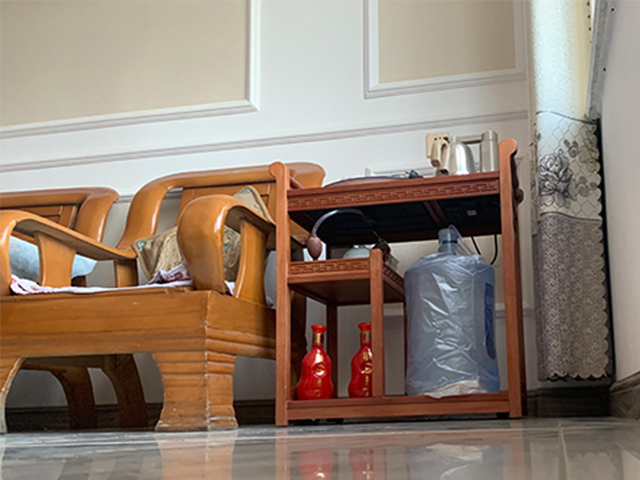curtain: (526, 1, 613, 382)
sofa: (1, 161, 325, 434)
table: (269, 135, 526, 428)
